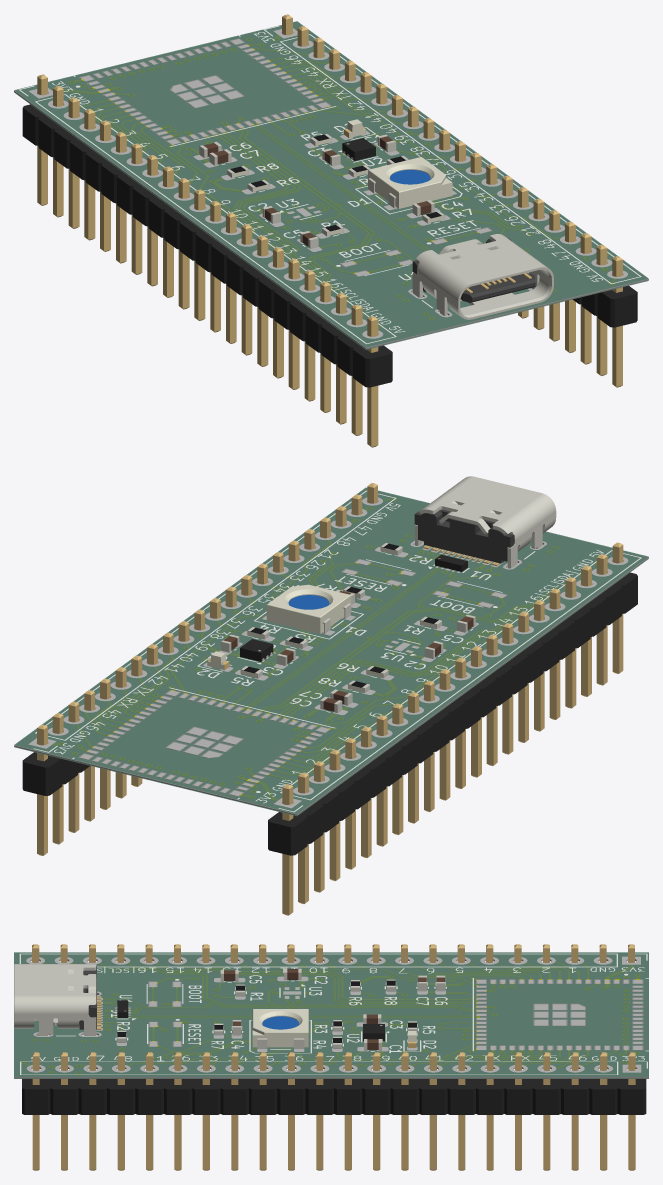
File: board.glb
3 renders of one model, top to bottom at view 1: azimuth 30°, elevation 25°; view 2: azimuth 150°, elevation 25°; view 3: azimuth 270°, elevation 25°, orthographic. The views are drawn at different scales.
Visible parts, largest first — view 1: =>[0:1:1:14], =>[0:1:1:16], J2, J3, =>[0:1:1:11], J1, =>[0:1:1:13], =>[0:1:1:10], D1, =>[0:1:1:15]; view 2: =>[0:1:1:14], =>[0:1:1:16], J2, J3, =>[0:1:1:11], J1, =>[0:1:1:13], =>[0:1:1:10], D1, =>[0:1:1:15]; view 3: =>[0:1:1:14], =>[0:1:1:16], J3, =>[0:1:1:11], =>[0:1:1:13], J1, =>[0:1:1:10], J2, D1, =>[0:1:1:15], U2.
Boxes of the visible parts, x1,y1,x2,y2 form: =>[0:1:1:14]: [14, 21, 648, 347]; =>[0:1:1:16]: [14, 22, 648, 349]; J2: [22, 74, 392, 447]; J3: [282, 14, 637, 387]; =>[0:1:1:11]: [28, 28, 627, 338]; J1: [412, 234, 553, 319]; =>[0:1:1:13]: [19, 26, 641, 344]; =>[0:1:1:10]: [52, 35, 615, 327]; D1: [368, 157, 452, 208]; =>[0:1:1:15]: [14, 92, 648, 349]; =>[0:1:1:14]: [14, 487, 648, 813]; =>[0:1:1:16]: [14, 489, 648, 815]; J2: [268, 542, 637, 915]; J3: [22, 483, 377, 855]; =>[0:1:1:11]: [28, 497, 628, 808]; J1: [414, 476, 556, 568]; =>[0:1:1:13]: [33, 490, 641, 812]; =>[0:1:1:10]: [52, 498, 595, 800]; D1: [266, 584, 351, 633]; =>[0:1:1:15]: [14, 558, 648, 816]; =>[0:1:1:14]: [14, 952, 648, 1076]; =>[0:1:1:16]: [14, 953, 648, 1078]; J3: [22, 1052, 646, 1170]; =>[0:1:1:11]: [26, 956, 642, 1072]; =>[0:1:1:13]: [19, 953, 648, 1074]; J1: [14, 964, 101, 1035]; =>[0:1:1:10]: [22, 962, 640, 1073]; J2: [32, 944, 634, 1035]; D1: [252, 1009, 308, 1048]; =>[0:1:1:15]: [14, 1078, 648, 1078]; U2: [363, 1024, 384, 1041].
Bounding box in the file's own units: 0.0264 × 0.0133 × 0.0568.
